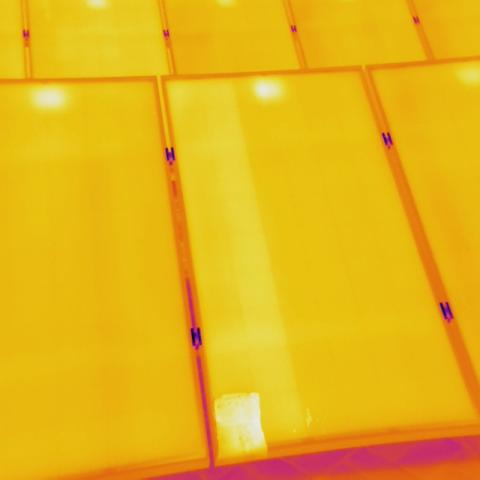fault: (212, 394, 268, 458), (32, 82, 66, 110), (252, 74, 284, 103)
